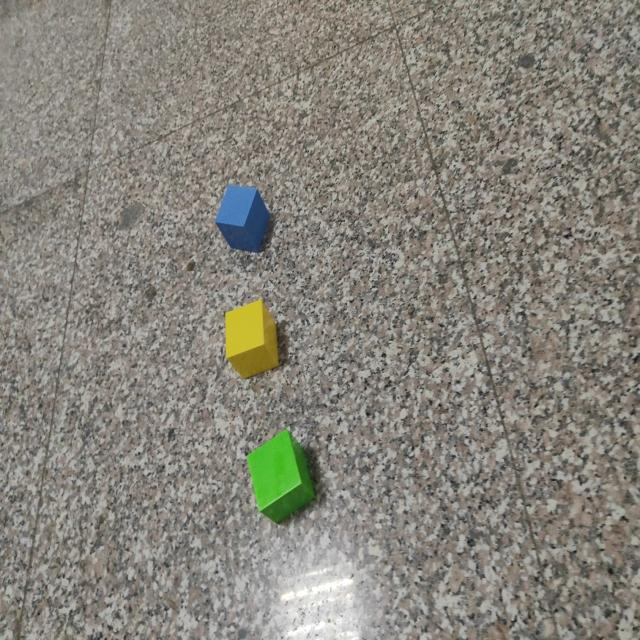blue: (215, 185, 274, 255)
green: (246, 432, 319, 526)
yellow: (224, 301, 282, 381)
